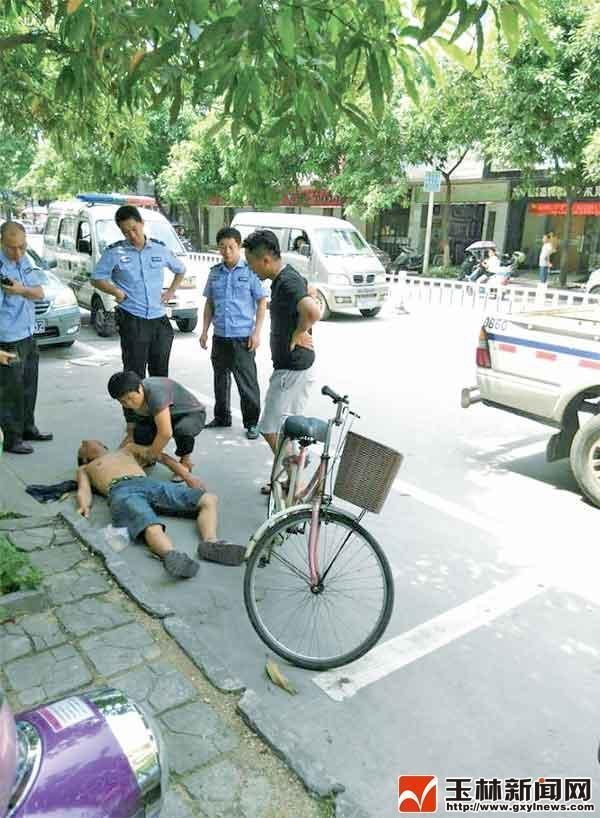Fall-Detected: (56, 423, 268, 587)
